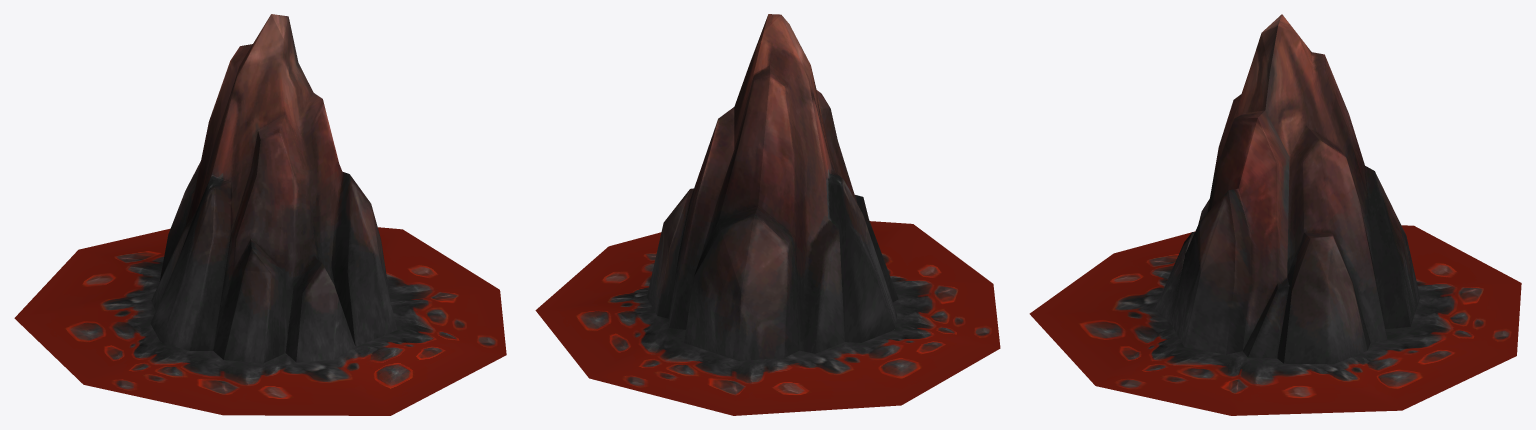
File: rock_footer02.fbx
3 views of the same model, side by side, from view 1: azimuth 30°, elevation 25°; view 2: azimuth 150°, elevation 25°; view 3: azimuth 270°, elevation 25° (orthographic). The views are drawn at different scales.
Visible parts, largest first — view 1: rock_footer02-0; view 2: rock_footer02-0; view 3: rock_footer02-0.
Part boxes in pixels (x1,y1,x2,y2): rock_footer02-0: (14,14,506,415); rock_footer02-0: (535,14,1000,415); rock_footer02-0: (1029,14,1521,415).
Size of the model in its own units: 13.28 by 9.5 by 13.94.
